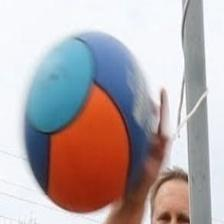Sports-Ball: (22, 25, 155, 214)
